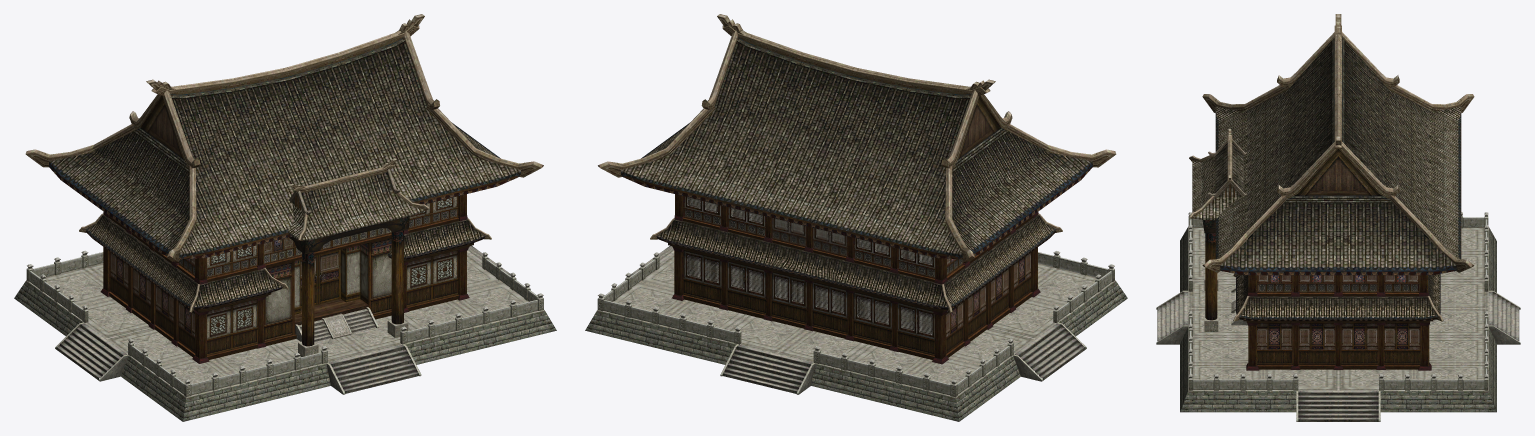
File: b1-010-bank.glb
3 renders of one model, left to right at view 1: azimuth 30°, elevation 25°; view 2: azimuth 150°, elevation 25°; view 3: azimuth 270°, elevation 25°, orthographic. The views are drawn at different scales.
Visible parts, largest first — view 1: b1-010-bank-01, b1-010-bank-03, b1-010-bank-04, b1-010-bank-02; view 2: b1-010-bank-01, b1-010-bank-03, b1-010-bank-02, b1-010-bank-04; view 3: b1-010-bank-01, b1-010-bank-03, b1-010-bank-02, b1-010-bank-04.
Part boxes in pixels (box(x1,y1,x2,y2)): b1-010-bank-01: box(49, 37, 520, 363); b1-010-bank-03: box(14, 216, 556, 421); b1-010-bank-04: box(25, 14, 543, 341); b1-010-bank-02: box(26, 196, 543, 396); b1-010-bank-01: box(620, 37, 1092, 364); b1-010-bank-03: box(585, 215, 1127, 421); b1-010-bank-02: box(597, 196, 1114, 397); b1-010-bank-04: box(598, 14, 1116, 312); b1-010-bank-01: box(1192, 38, 1461, 370); b1-010-bank-03: box(1156, 226, 1520, 421); b1-010-bank-02: box(1188, 212, 1488, 390); b1-010-bank-04: box(1189, 14, 1474, 321).
Size of the model in its own units: 24.99 by 15.27 by 20.19.
4 materials, 4 textured.
